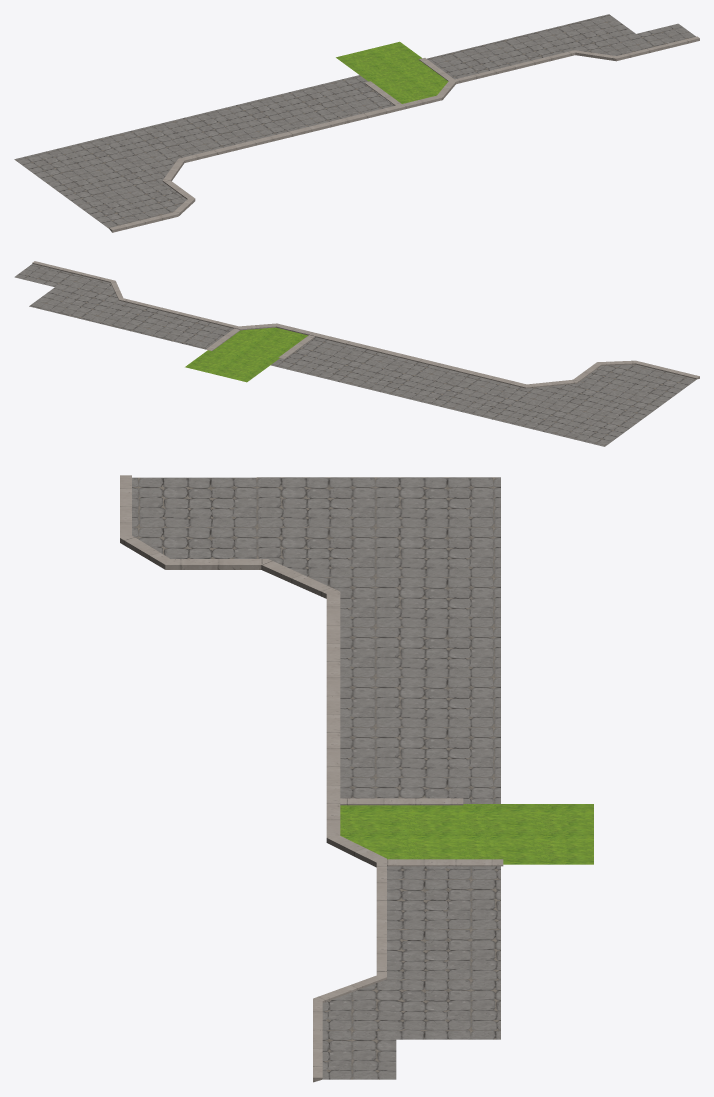
The model's file is TownGroundTile_O.fbx.
3 renders of one model, top to bottom at view 1: azimuth 30°, elevation 25°; view 2: azimuth 150°, elevation 25°; view 3: azimuth 270°, elevation 25°, orthographic. The views are drawn at different scales.
Visible parts, largest first — view 1: TownGroundTile_O; view 2: TownGroundTile_O; view 3: TownGroundTile_O.
Part boxes in pixels (x1,y1,x2,y2): TownGroundTile_O: [14, 14, 699, 232]; TownGroundTile_O: [14, 261, 699, 446]; TownGroundTile_O: [120, 475, 593, 1082].
Bounding box in the file's own units: 7072 × 27.35 × 2352.
Materials: 3 (3 with a texture image).
